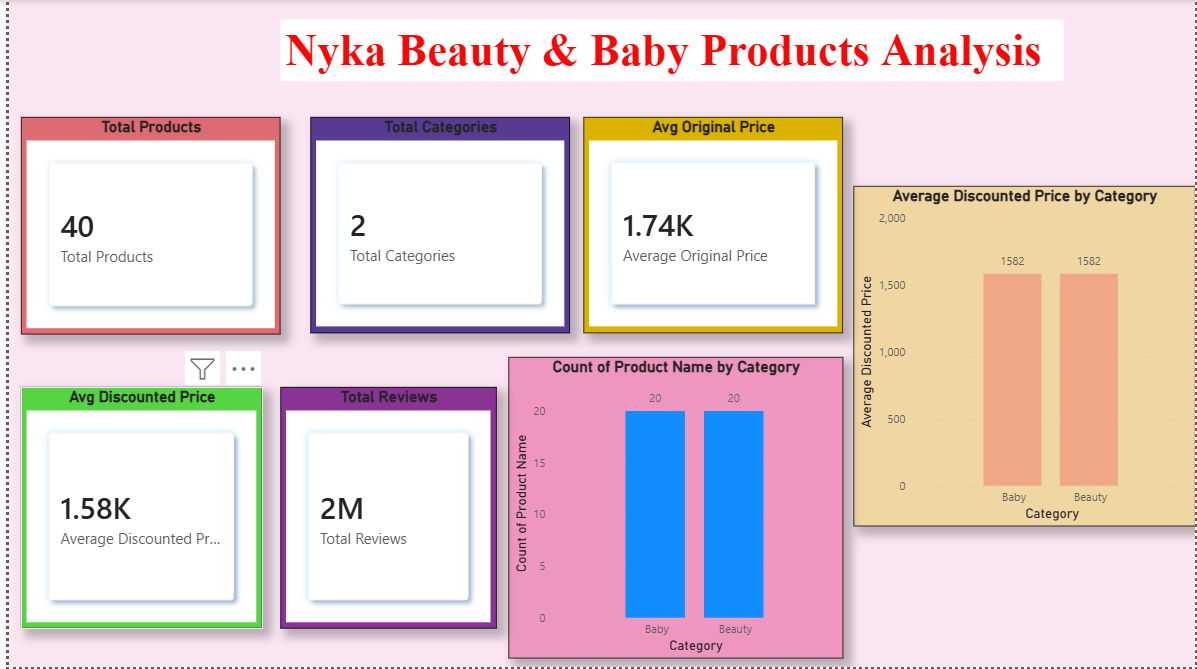

What the dashboard file says about the page in this screenshot:
{"tool":"powerbi","page":{"name":"Page 1","canvas":[1280,720],"ordinal":0},"visuals":[{"type":"cardVisual","title":"Total Products","fields":{"Data":["FINAL_DATASET_SCRAPINGcsv.Total Products"]},"box":[13,126.3,280.1,234.8],"z":0},{"type":"cardVisual","title":"Avg Discounted Price","fields":{"Data":["FINAL_DATASET_SCRAPINGcsv.Average Discounted Price"]},"box":[13,417.8,260.7,260.7],"z":1000},{"type":"cardVisual","title":"Total Categories","fields":{"Data":["FINAL_DATASET_SCRAPINGcsv.Total Categories"]},"box":[325.5,126.3,280.1,233.2],"z":2000},{"type":"cardVisual","title":"Total Reviews","fields":{"Data":["FINAL_DATASET_SCRAPINGcsv.Total Reviews"]},"box":[293.1,417.8,233.2,260.7],"z":3000},{"type":"cardVisual","title":"Avg Original Price","fields":{"Data":["FINAL_DATASET_SCRAPINGcsv.Average Original Price"]},"box":[620.2,126.3,280.1,233.2],"z":4000},{"type":"clusteredColumnChart","fields":{"Category":["FINAL_DATASET_SCRAPINGcsv.Category"],"Y":["FINAL_DATASET_SCRAPINGcsv.Average Discounted Price"]},"box":[911.6,200.8,369.2,367.6],"z":5000},{"type":"clusteredColumnChart","fields":{"Category":["FINAL_DATASET_SCRAPINGcsv.Category"],"Y":["CountNonNull(FINAL_DATASET_SCRAPINGcsv.Product Name)"]},"box":[539.2,385.4,361.1,325.5],"z":6000},{"type":"textbox","box":[293.1,21,845.2,66.4],"z":7000}]}

Visuals, with their boxes in screenshot pixels (x1, y1, x2, y2), scaled from the page's 1280x720 canvas onto the 1197x669 screenshot:
"Total Products" cardVisual: <bbox>12, 117, 274, 336</bbox>
"Avg Discounted Price" cardVisual: <bbox>12, 388, 256, 630</bbox>
"Total Categories" cardVisual: <bbox>304, 117, 566, 334</bbox>
"Total Reviews" cardVisual: <bbox>274, 388, 492, 630</bbox>
"Avg Original Price" cardVisual: <bbox>580, 117, 842, 334</bbox>
clusteredColumnChart - FINAL_DATASET_SCRAPINGcsv.Category x FINAL_DATASET_SCRAPINGcsv.Average Discounted Price: <bbox>852, 187, 1196, 528</bbox>
clusteredColumnChart - FINAL_DATASET_SCRAPINGcsv.Category x CountNonNull(FINAL_DATASET_SCRAPINGcsv.Product Name): <bbox>504, 358, 842, 661</bbox>
textbox: <bbox>274, 20, 1064, 81</bbox>
